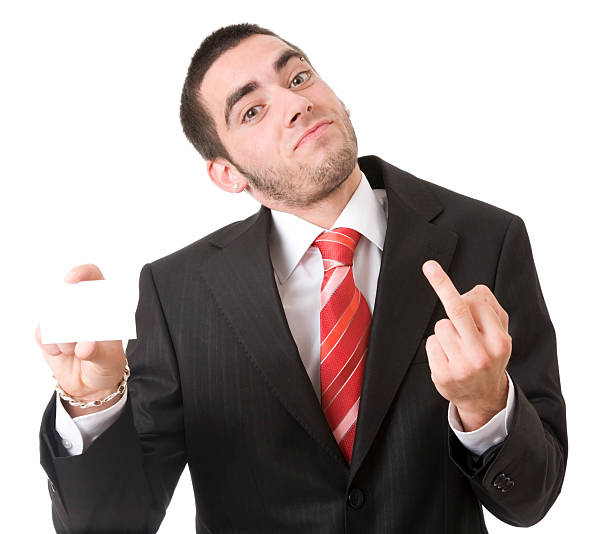insulting_gesture: (418, 257, 517, 396)
